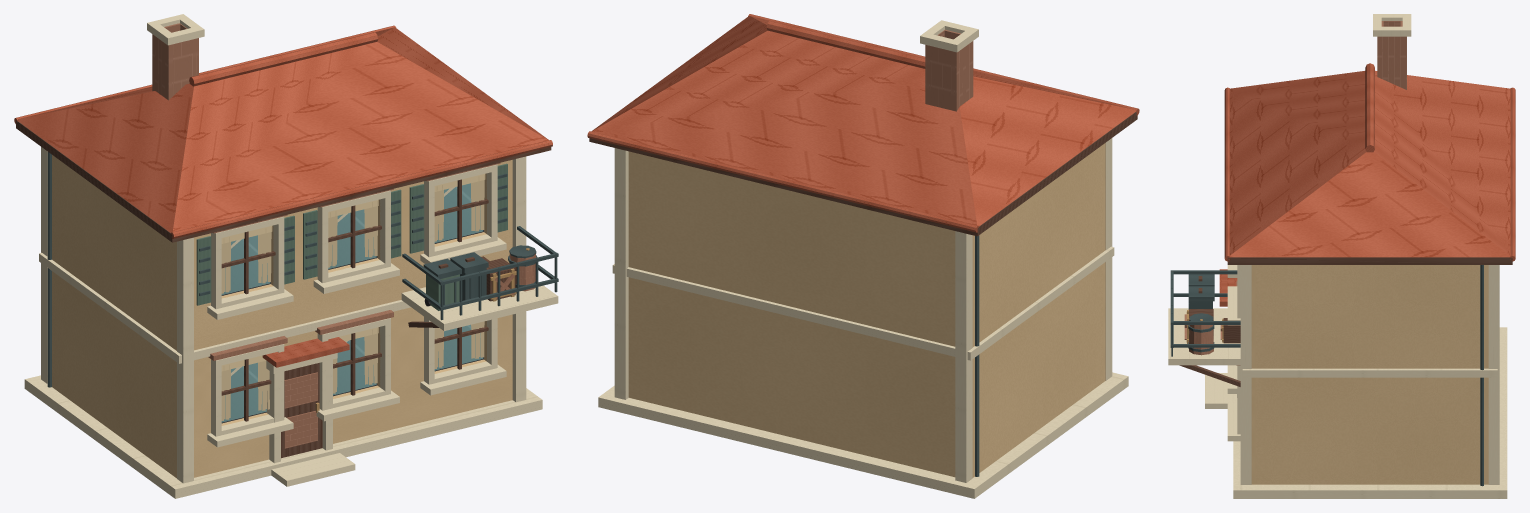
The model's file is private-2f.glb.
3 renders of one model, left to right at view 1: azimuth 30°, elevation 25°; view 2: azimuth 150°, elevation 25°; view 3: azimuth 270°, elevation 25°, orthographic. The views are drawn at different scales.
Parts seen in each view (by area): view 1: building_shell, roof_chimney, balconies, win_5_frame, win_4_frame, win_6_frame, win_2_frame, win_1_frame, door_main, win_6_intact, win_4_intact, win_5_intact (+8 smaller); view 2: building_shell, roof_chimney; view 3: building_shell, roof_chimney, balconies, target_barrel, win_3_frame, target_bin_ash, win_6_frame, target_crate_small.
Boxes of the visible parts, x1,y1,x2,y2 form: building_shell: (24,147,542,498); roof_chimney: (14,14,552,242); balconies: (401,226,558,331); win_5_frame: (303,188,401,293); win_4_frame: (196,214,294,319); win_6_frame: (409,162,507,263); win_2_frame: (315,310,399,421); win_1_frame: (207,336,293,447); door_main: (281,363,322,458); win_6_intact: (434,174,488,243); win_4_intact: (221,226,275,295); win_5_intact: (328,200,381,269); building_shell: (598,138,1128,498); roof_chimney: (587,14,1139,236); building_shell: (1205,265,1507,498); roof_chimney: (1224,14,1515,264); balconies: (1168,270,1240,386); target_barrel: (1188,313,1214,355); win_3_frame: (1227,365,1240,441); target_bin_ash: (1188,286,1214,309); win_6_frame: (1227,265,1240,325); target_crate_small: (1220,318,1240,343).
Size of what is drawn, in the model's own units: 9.96 by 9.73 by 8.69.
Materials: 1 (1 with a texture image).
